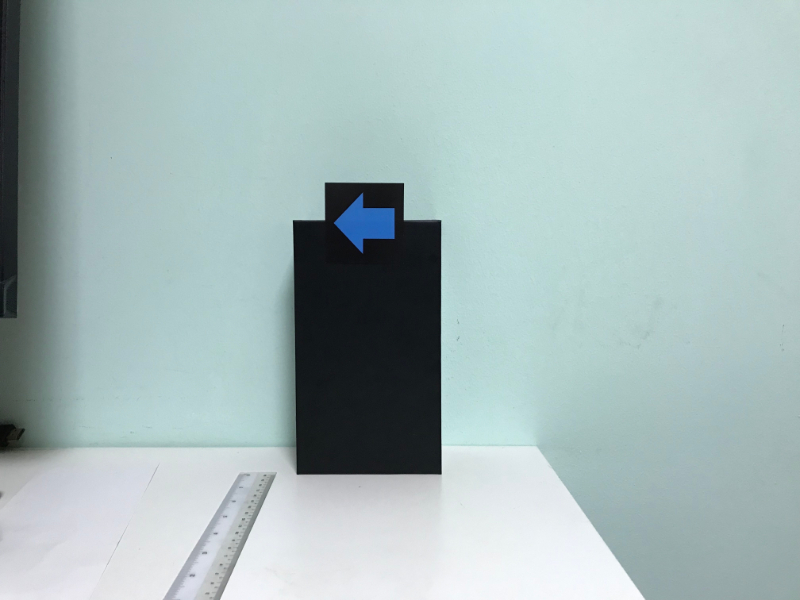LA-4: (327, 184, 402, 261)
